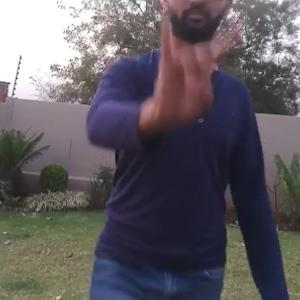takeoff-hand: (156, 12, 246, 124)
